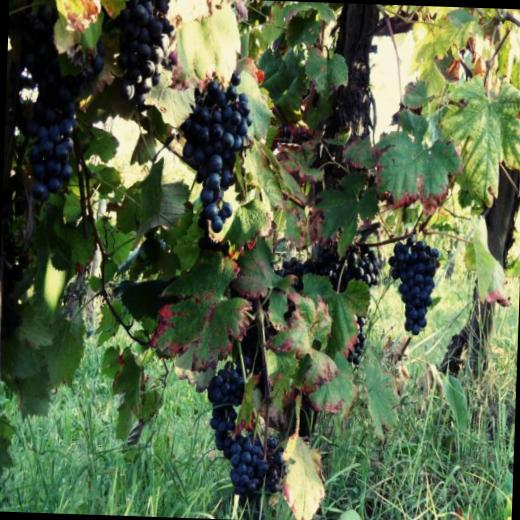Orange: (268, 226, 381, 364), (202, 358, 290, 497), (178, 71, 252, 231), (27, 51, 104, 199), (102, 0, 173, 108), (386, 232, 439, 336), (284, 135, 290, 142), (276, 142, 280, 150), (284, 126, 288, 134)
